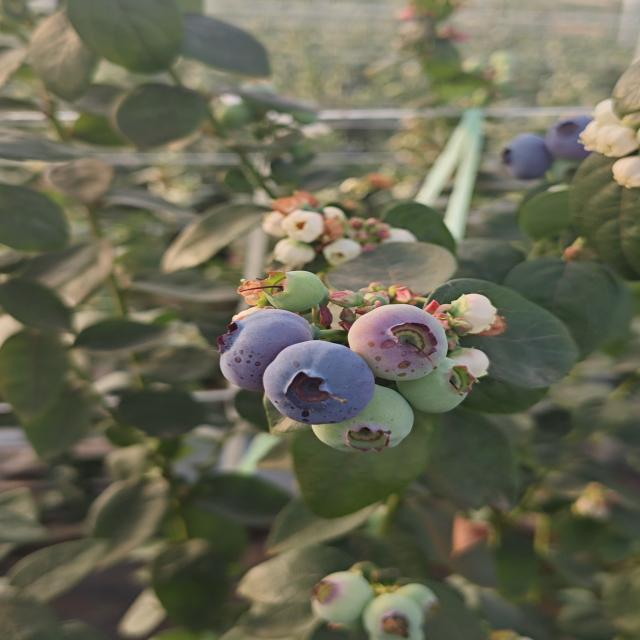ripe: (261, 338, 377, 426), (206, 314, 312, 382), (504, 138, 558, 177), (546, 115, 597, 154)
